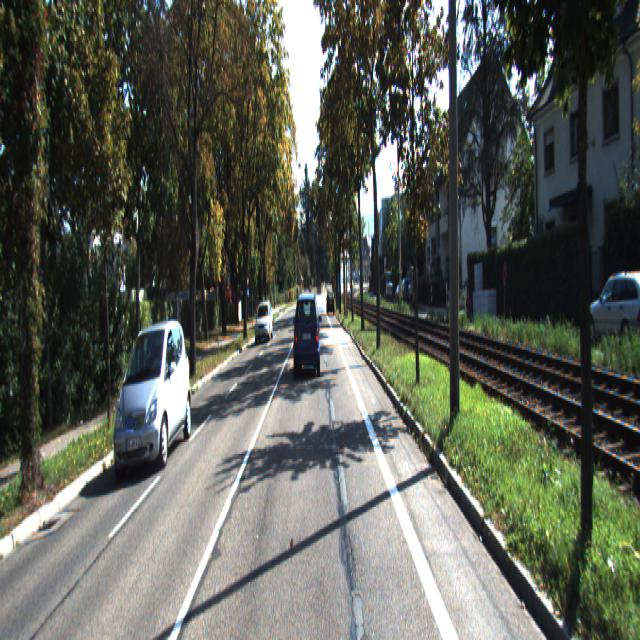Car: (115, 315, 193, 475), (585, 267, 639, 347), (293, 304, 321, 394), (254, 301, 273, 344), (327, 290, 335, 314)
